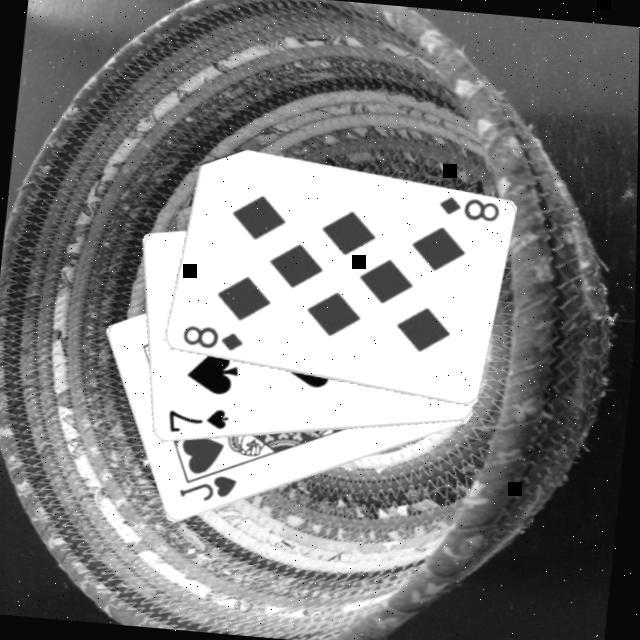7S: (162, 403, 230, 442)
8D: (432, 194, 502, 228), (177, 322, 244, 357)
JH: (174, 470, 239, 508)
